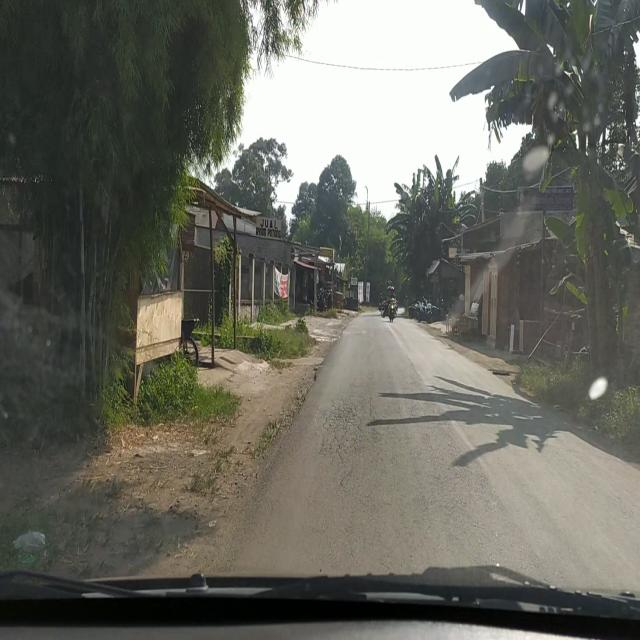Drain Hole: (316, 391, 378, 480)
